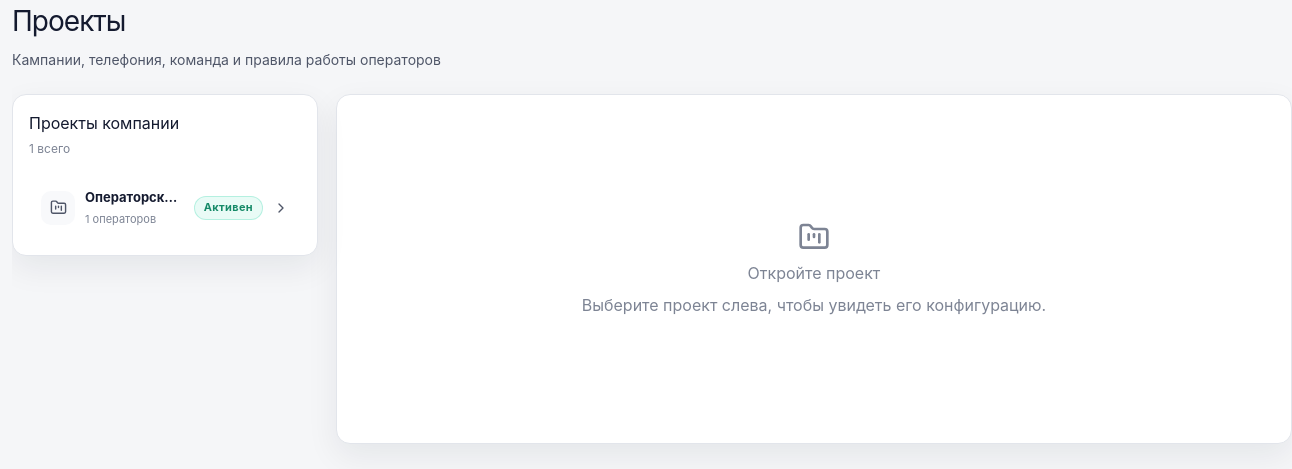
Test: project permissions › shows assigned project to an operator without management settings
Expected: the text "Операторский проект" is shown, [85,188,184,208]
Click the button "Операторский проект 1 операторов Активен" at (165, 208), box [29,176,301,239]
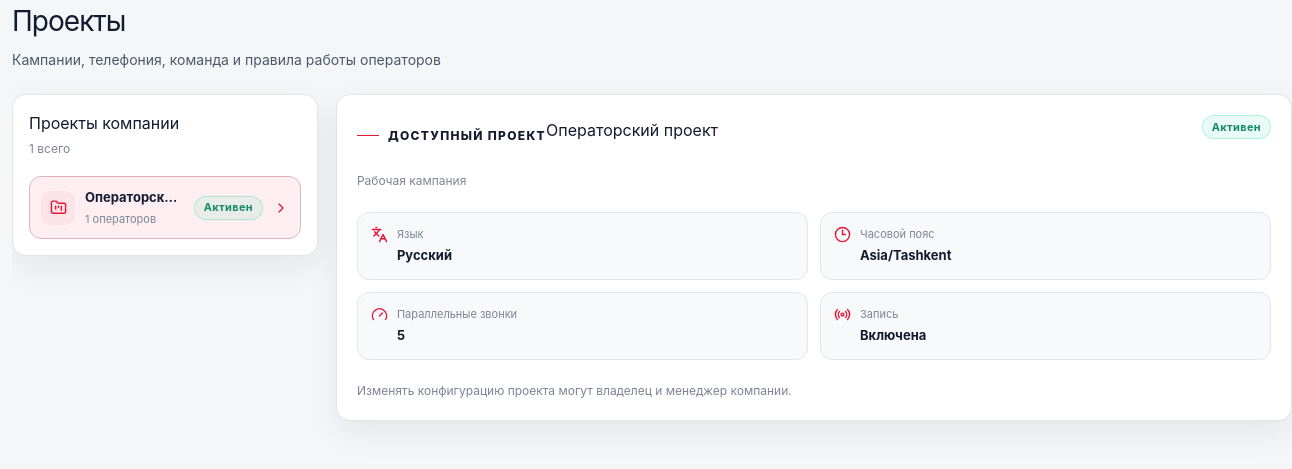
Now the text "Изменять конфигурацию проекта могут владелец и менеджер компании." is shown, box [357,382,792,398]
